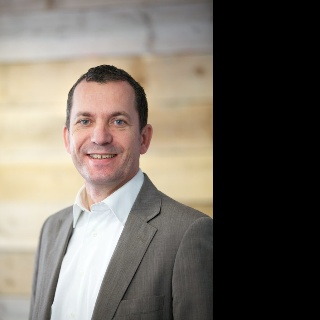without_mask: (70, 78, 142, 184)
